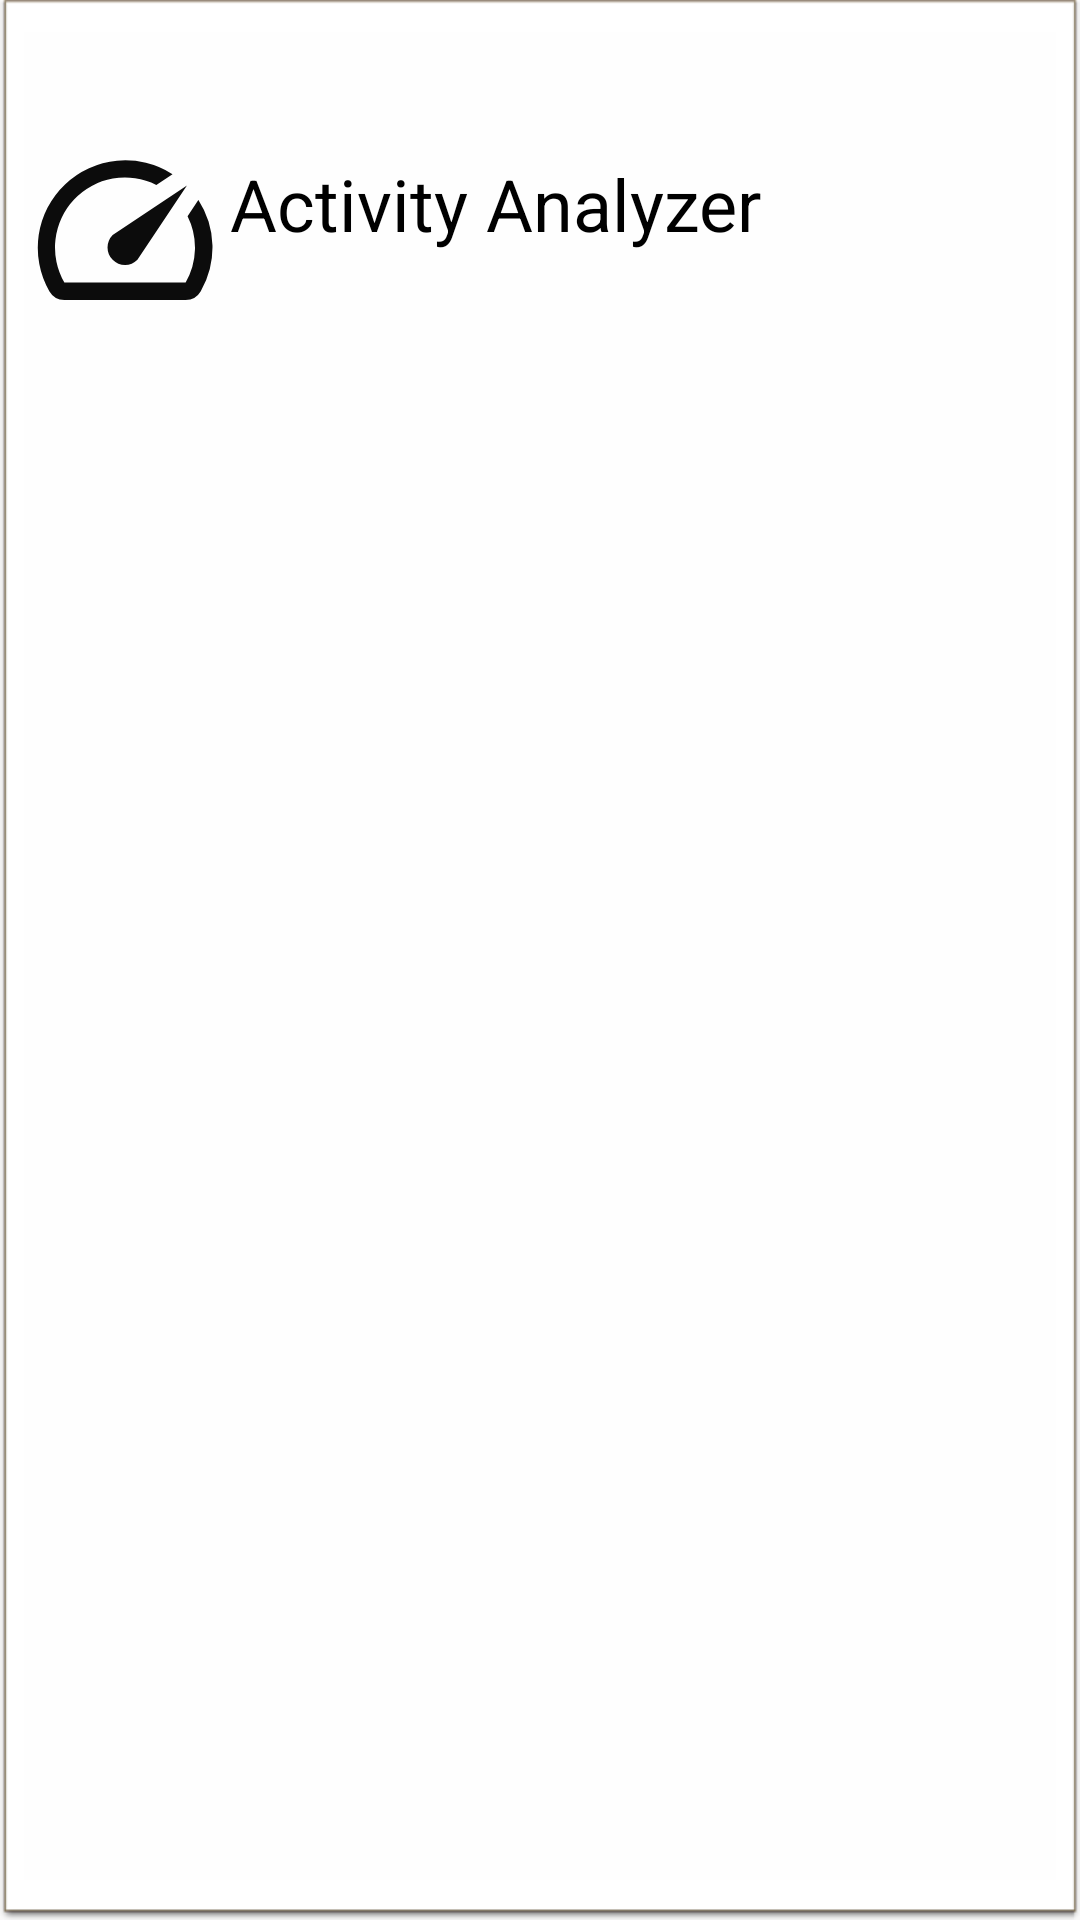

Icon bounding boxes for this 1080px×1920px phone screenshot, format (x1, y1, x2, y2):
speed: (37, 160, 213, 300)
